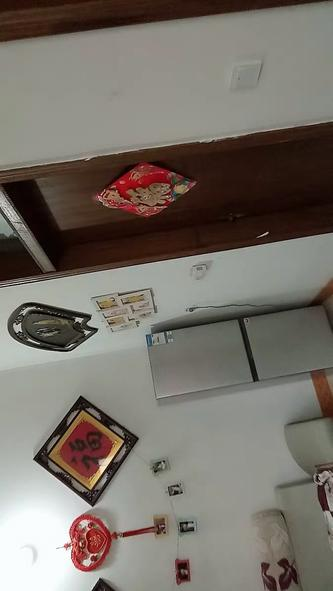switch: (236, 65, 266, 84)
